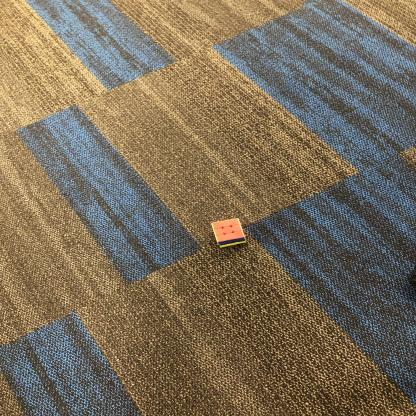SolvedCube: (210, 219, 250, 247)
